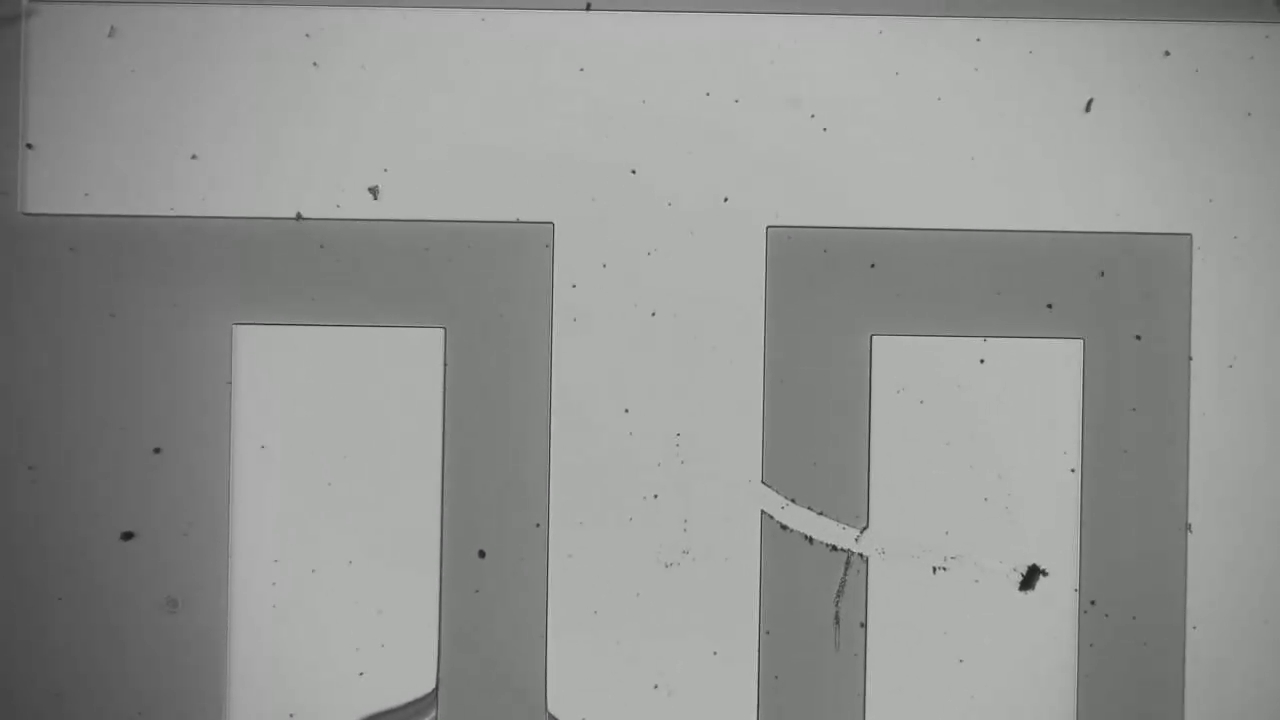Short_circuit: (740, 464, 901, 579)
